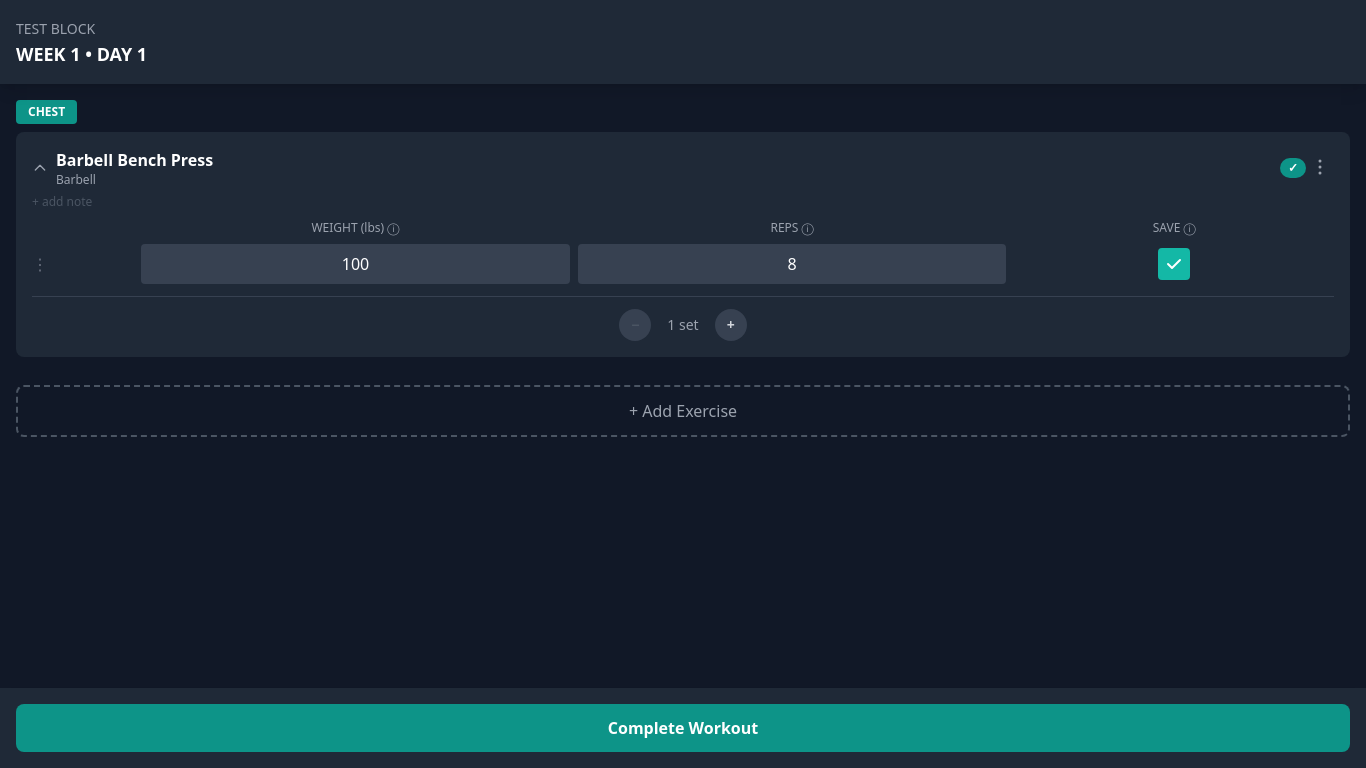
WorkoutExecution when the network is gone › shows a queued set as saved, not as still to do
Expected: the heading "Barbell Bench Press" is shown, x1=56 y1=148 x2=213 y2=172
In the 1st field showing "100": (356, 264) x1=141 y1=244 x2=570 y2=284, type "105"
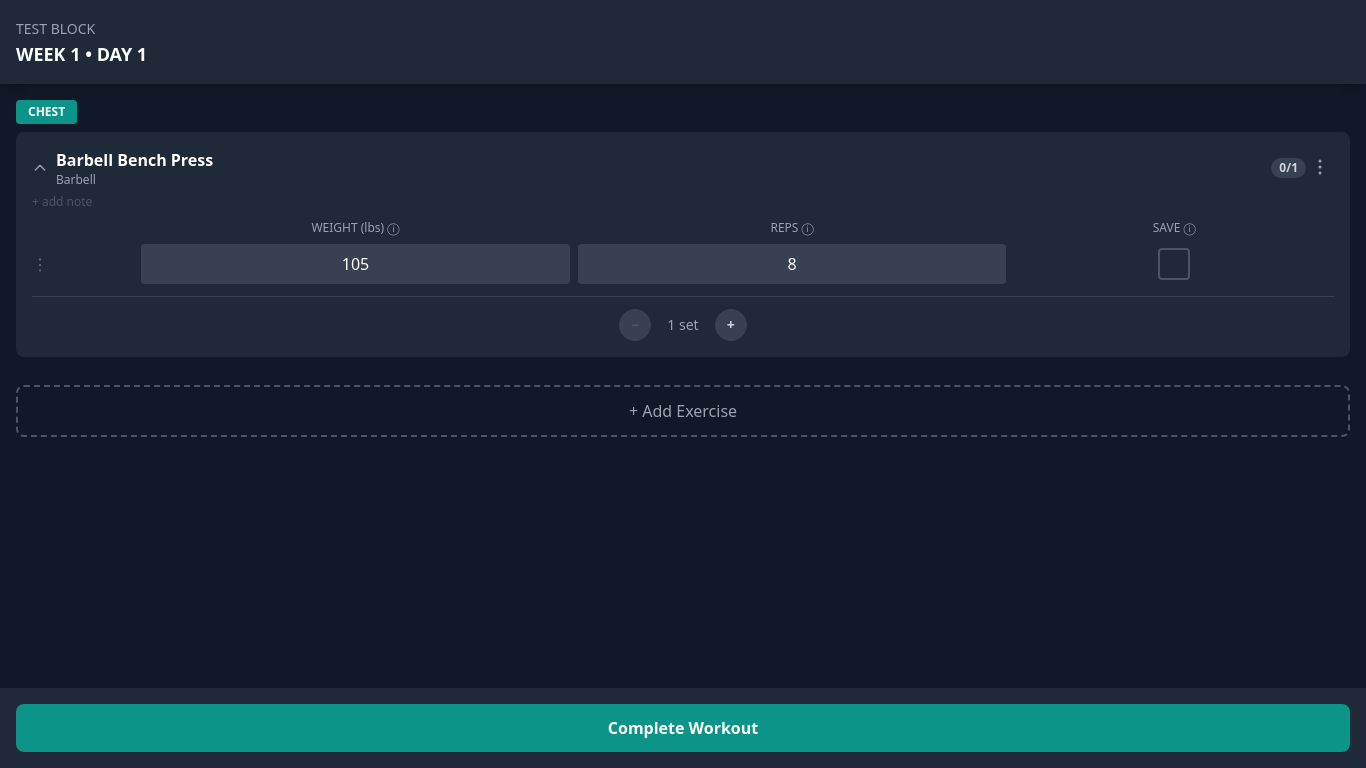
Click the button titled "Save this set": (1174, 264) x1=1158 y1=248 x2=1190 y2=280
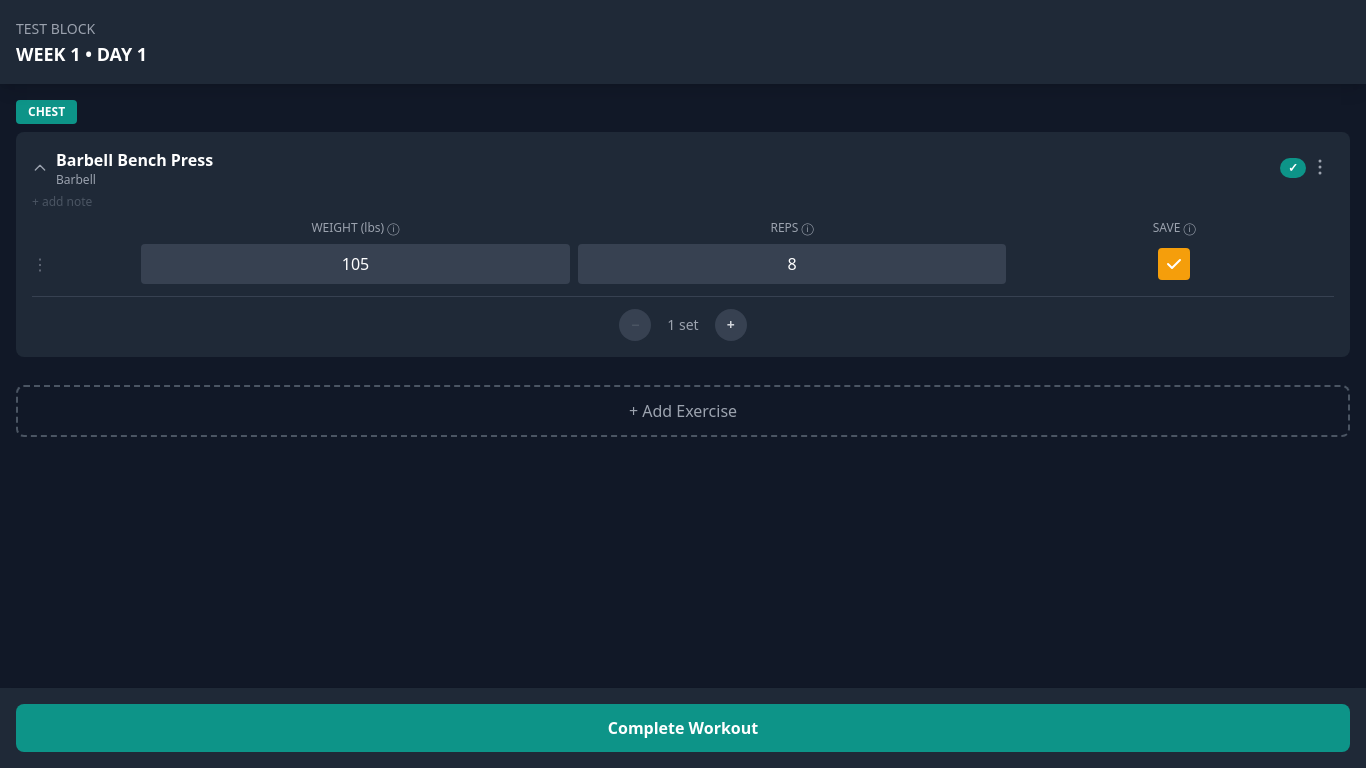
Result: the button titled "Saved locally" is shown at x1=1158 y1=248 x2=1190 y2=280
